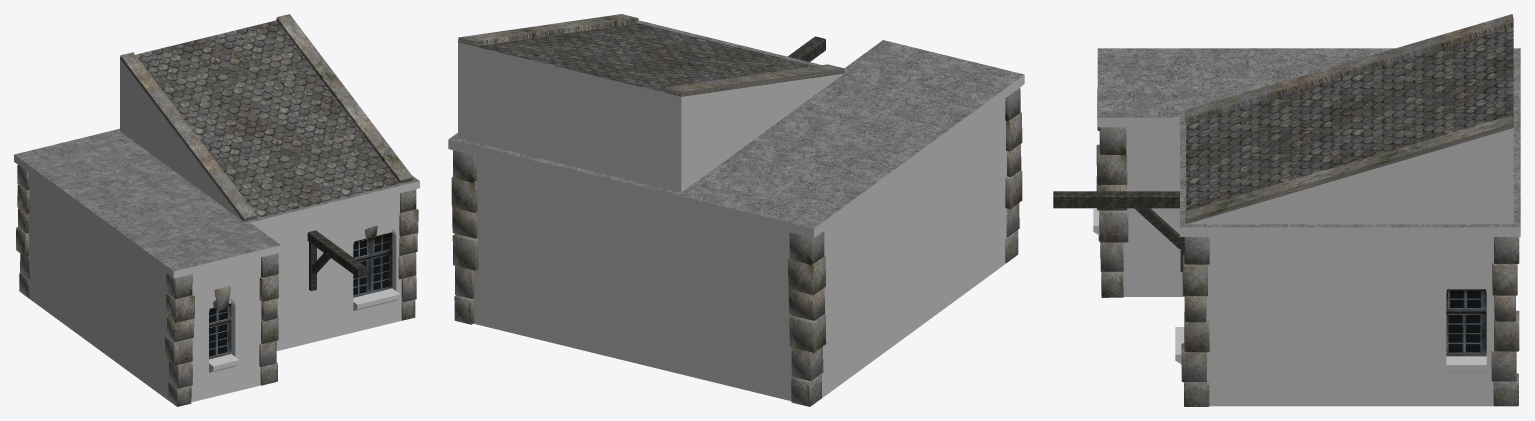
Rendered from Building_Roof_04.fbx.
3 views of the same model, side by side, from view 1: azimuth 30°, elevation 25°; view 2: azimuth 150°, elevation 25°; view 3: azimuth 270°, elevation 25° (orthographic). The views are drawn at different scales.
Parts seen in each view (by area): view 1: Building_Roof_04; view 2: Building_Roof_04; view 3: Building_Roof_04.
Boxes of the visible parts, x1,y1,x2,y2 form: Building_Roof_04: (14, 14, 419, 406); Building_Roof_04: (448, 14, 1024, 406); Building_Roof_04: (1053, 14, 1520, 406).
Size of the model in its own units: 522 by 381 by 570.
